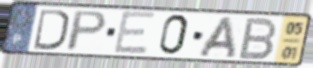0: (157, 13, 190, 57)
A: (195, 15, 237, 60)
B: (236, 16, 280, 61)
D: (32, 7, 70, 52)
E: (112, 10, 158, 56)
P: (64, 9, 110, 53)
